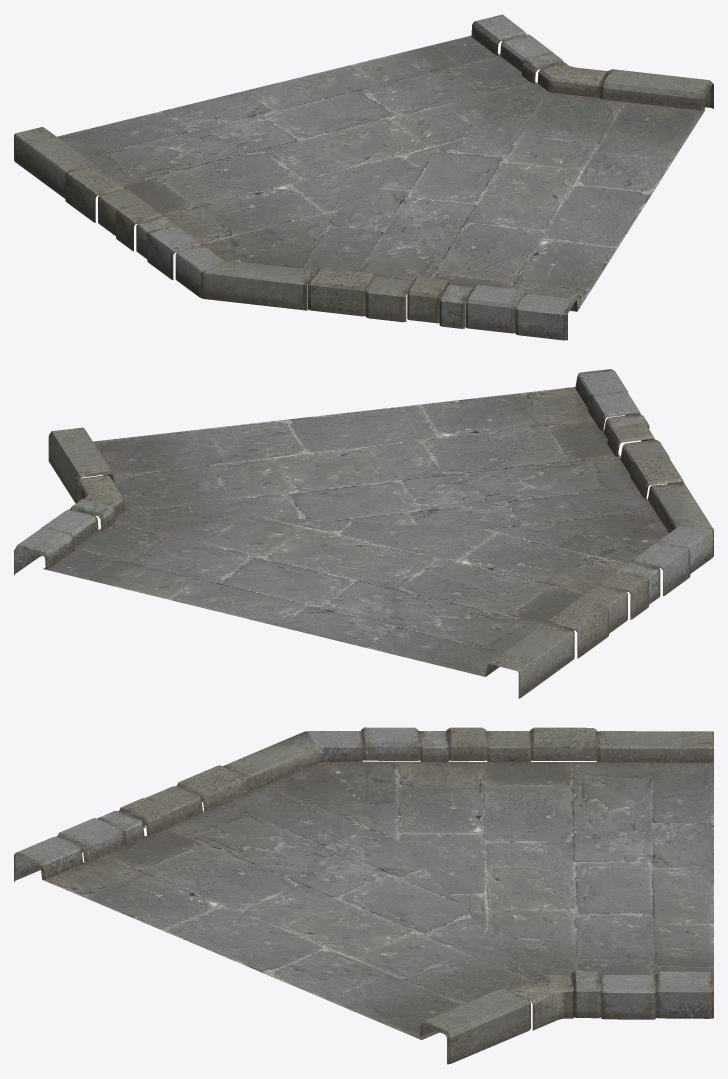
Rendered from bg_lut_lucastle_street04_sm_jjy.FBX.
3 views of the same model, one above another, from view 1: azimuth 30°, elevation 25°; view 2: azimuth 150°, elevation 25°; view 3: azimuth 270°, elevation 25° (orthographic). The views are drawn at different scales.
Visible parts, largest first — view 1: bg_lut_lucastle_street04_sm_jjy; view 2: bg_lut_lucastle_street04_sm_jjy; view 3: bg_lut_lucastle_street04_sm_jjy.
Boxes of the visible parts, x1,y1,x2,y2 form: bg_lut_lucastle_street04_sm_jjy: (14,14,713,340); bg_lut_lucastle_street04_sm_jjy: (14,369,713,698); bg_lut_lucastle_street04_sm_jjy: (14,727,713,1064).
Bounding box in the file's own units: 454 × 22.34 × 437.
